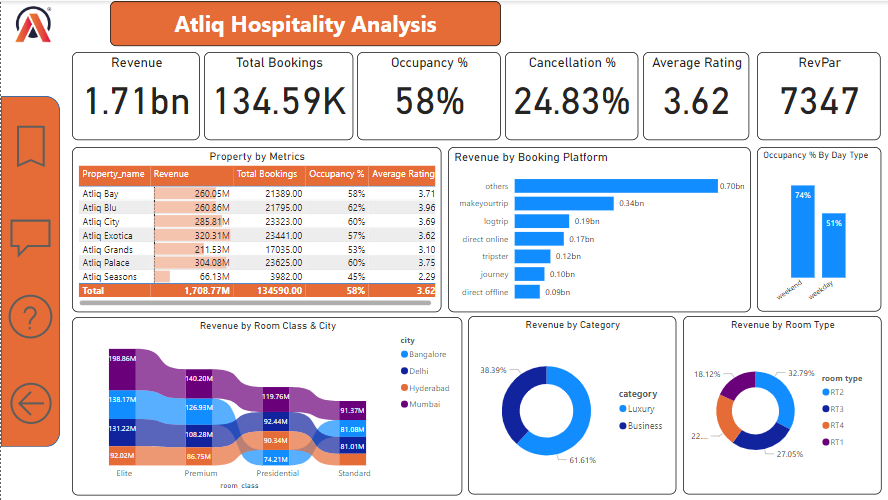

Layout of this report page (visuals, bound fields, positions):
{"tool":"powerbi","page":{"name":"Page 1","canvas":[1280,720],"ordinal":0},"visuals":[{"type":"card","title":"Revenue","fields":{"Values":["key_measures.Revenue"]},"box":[101.7,73.3,184.4,126.7],"z":0},{"type":"card","title":"Cancellation %","fields":{"Values":["key_measures.Cancellation %"]},"box":[725.8,73.3,191.7,126.7],"z":1000},{"type":"card","title":"Average Rating","fields":{"Values":["key_measures.Average Rating"]},"box":[925,73.3,153.3,126.7],"z":2000},{"type":"card","title":"RevPar","fields":{"Values":["key_measures.RevPAR"]},"box":[1088.3,73.3,178.3,126.7],"z":3000},{"type":"card","title":"Occupancy %","fields":{"Values":["key_measures.Occupancy %"]},"box":[513.3,73.3,206.7,126.7],"z":4000},{"type":"textbox","box":[157,0,563,64.8],"z":5000},{"type":"card","title":"Total Bookings","fields":{"Values":["key_measures.Total Bookings"]},"box":[292.5,73.3,215,126.7],"z":6000},{"type":"tableEx","title":"Property by Metrics","fields":{"Values":["dim_hotels.property_name","key_measures.Revenue","key_measures.Total Bookings","key_measures.Occupancy %","key_measures.Average Rating"]},"box":[101.7,210,531.7,237.5],"z":7000},{"type":"ribbonChart","title":"Revenue by Room Class & City","fields":{"Y":["key_measures.Revenue"],"Category":["dim_rooms.room_class"],"Series":["dim_hotels.city"]},"box":[101.7,454.4,562.2,256.7],"z":8000},{"type":"clusteredBarChart","title":"Revenue by Booking Platform","fields":{"Category":["fact_bookings.booking_platform"],"Y":["key_measures.Revenue"]},"box":[643.1,210,436.4,237.9],"z":9000},{"type":"clusteredColumnChart","title":"Occupancy % By Day Type","fields":{"Y":["key_measures.Occupancy %"],"Category":["dim_date.day_type"]},"box":[1088.8,210,178.6,237.1],"z":10000},{"type":"donutChart","title":"Revenue by Category","fields":{"Y":["key_measures.Revenue"],"Category":["dim_hotels.category"]},"box":[672.7,454,300,257],"z":11000},{"type":"donutChart","title":"Revenue by Room Type","fields":{"Category":["dim_rooms.room_id"],"Y":["key_measures.Revenue"]},"box":[981.7,454.3,285.7,257.1],"z":12000},{"type":"shape","box":[0,136.8,85,505.4],"z":13000},{"type":"actionButton","box":[5.8,540,74.9,79.2],"z":14000},{"type":"actionButton","box":[2.9,411.8,79.2,85],"z":15000},{"type":"actionButton","box":[5.8,157,74.9,105.1],"z":16000},{"type":"actionButton","box":[7.2,293.8,70.6,96.5],"z":17000},{"type":"image","box":[0,1.5,93.8,63.1],"z":18000}]}

Visuals, with their boxes in screenshot pixels (x1, y1, x2, y2), scaled from the page's 1280x720 canvas onto the 888x500 screenshot:
"Revenue" card: box=[71, 51, 198, 139]
"Cancellation %" card: box=[504, 51, 637, 139]
"Average Rating" card: box=[642, 51, 748, 139]
"RevPar" card: box=[755, 51, 879, 139]
"Occupancy %" card: box=[356, 51, 500, 139]
textbox: box=[109, 0, 500, 45]
"Total Bookings" card: box=[203, 51, 352, 139]
"Property by Metrics" tableEx: box=[71, 146, 439, 311]
"Revenue by Room Class & City" ribbonChart: box=[71, 316, 461, 494]
"Revenue by Booking Platform" clusteredBarChart: box=[446, 146, 749, 311]
"Occupancy % By Day Type" clusteredColumnChart: box=[755, 146, 879, 310]
"Revenue by Category" donutChart: box=[467, 315, 675, 494]
"Revenue by Room Type" donutChart: box=[681, 315, 879, 494]
shape: box=[0, 95, 59, 446]
actionButton: box=[4, 375, 56, 430]
actionButton: box=[2, 286, 57, 345]
actionButton: box=[4, 109, 56, 182]
actionButton: box=[5, 204, 54, 271]
image: box=[0, 1, 65, 45]
